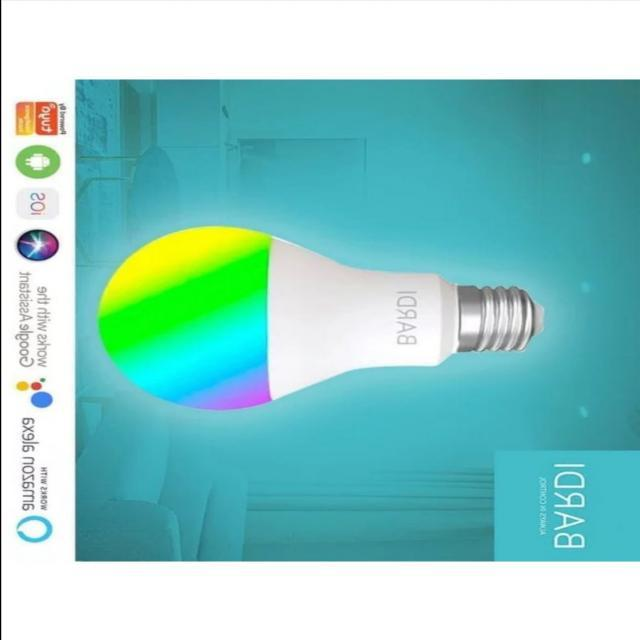light_bulb: (94, 224, 550, 416)
